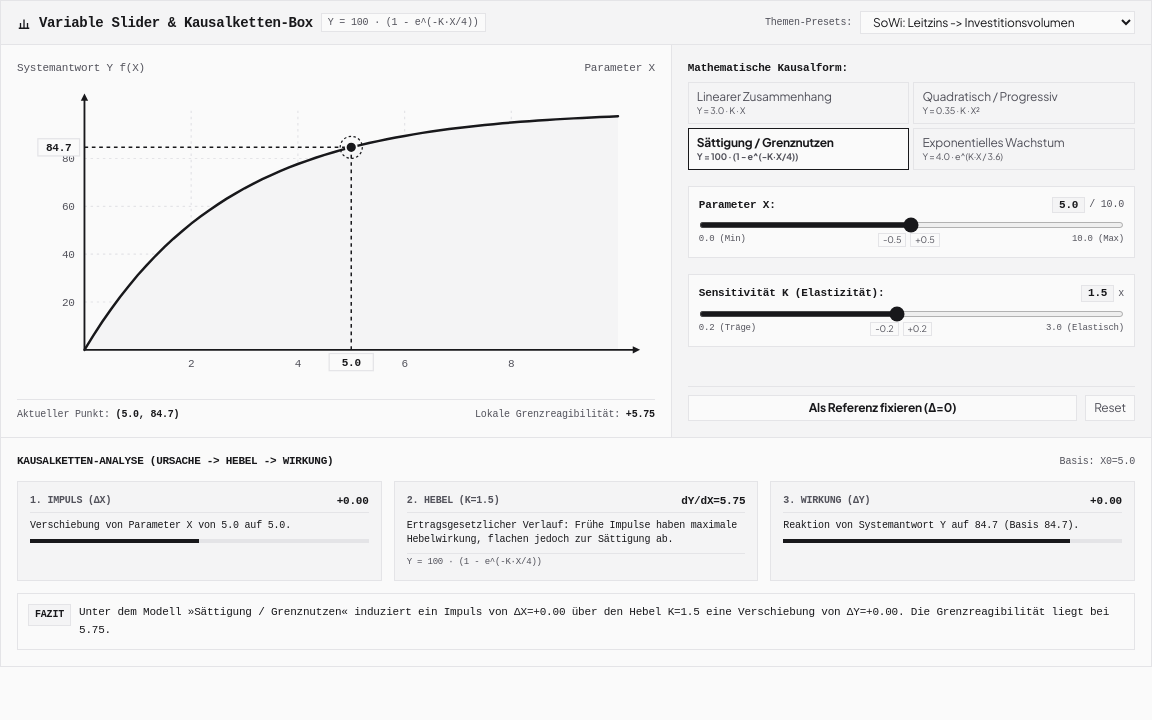
Test: Generic MicroWorld: VariableSliderBox › switches curve model and updates formula display
This screenshot has width=1152, height=720.
Click the text "Quadratisch / Progressiv": (990, 96) [922, 89, 1058, 104]
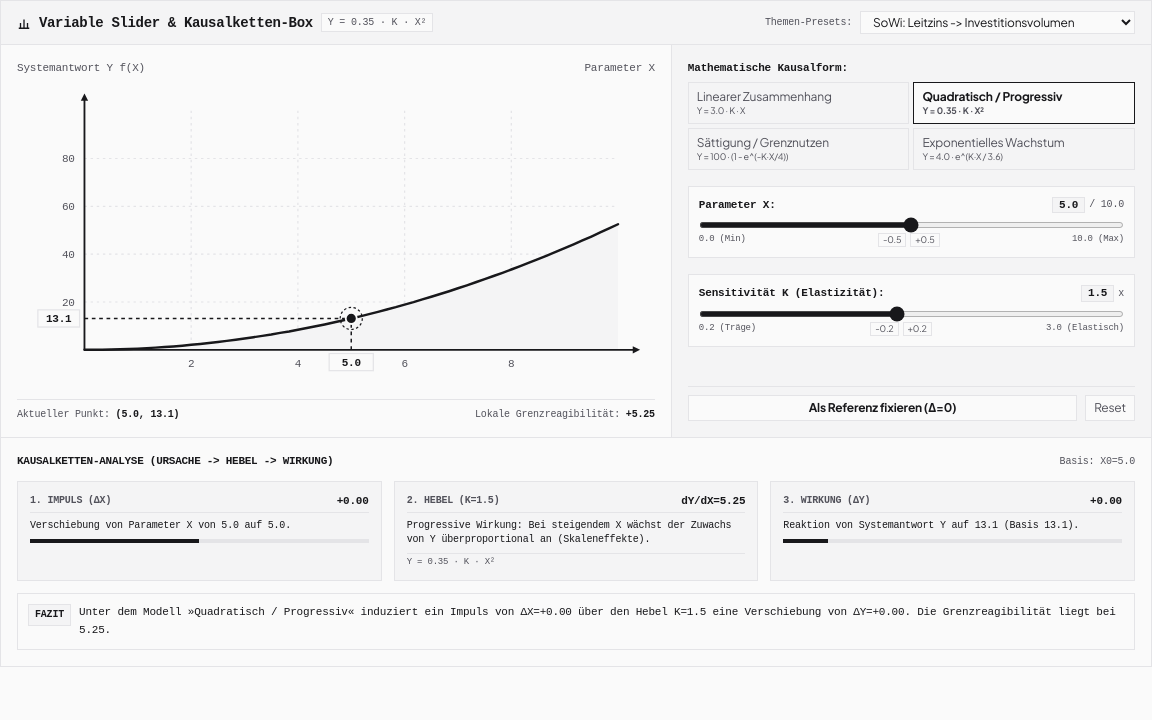
Expected: the text "Y = 0.35 · K · X²" next to "Variable Slider & Kausalketten-Box" is shown, [328, 17, 426, 28]
